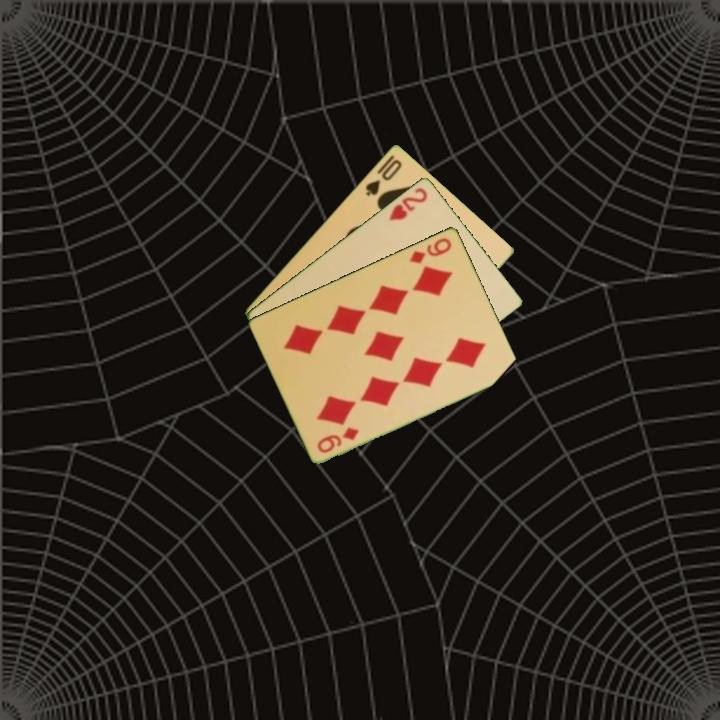10s: (362, 155, 405, 199)
2h: (385, 184, 430, 223)
9d: (405, 234, 454, 266), (314, 423, 362, 455)
